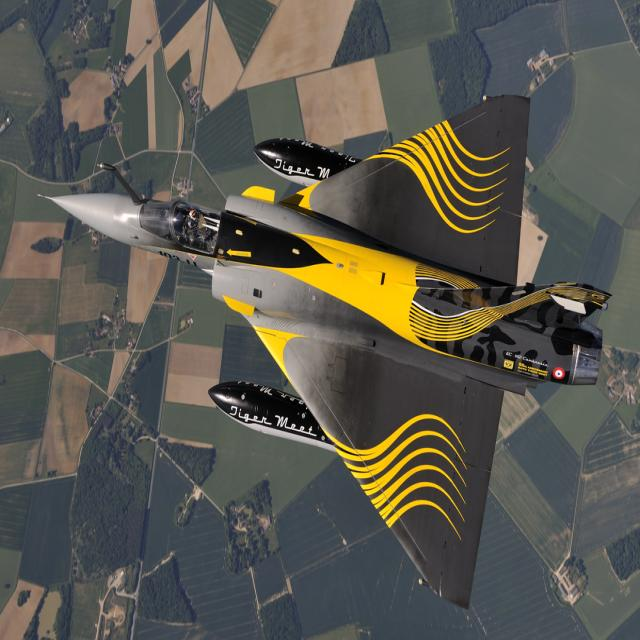MIL_Plane: (36, 94, 613, 610)
